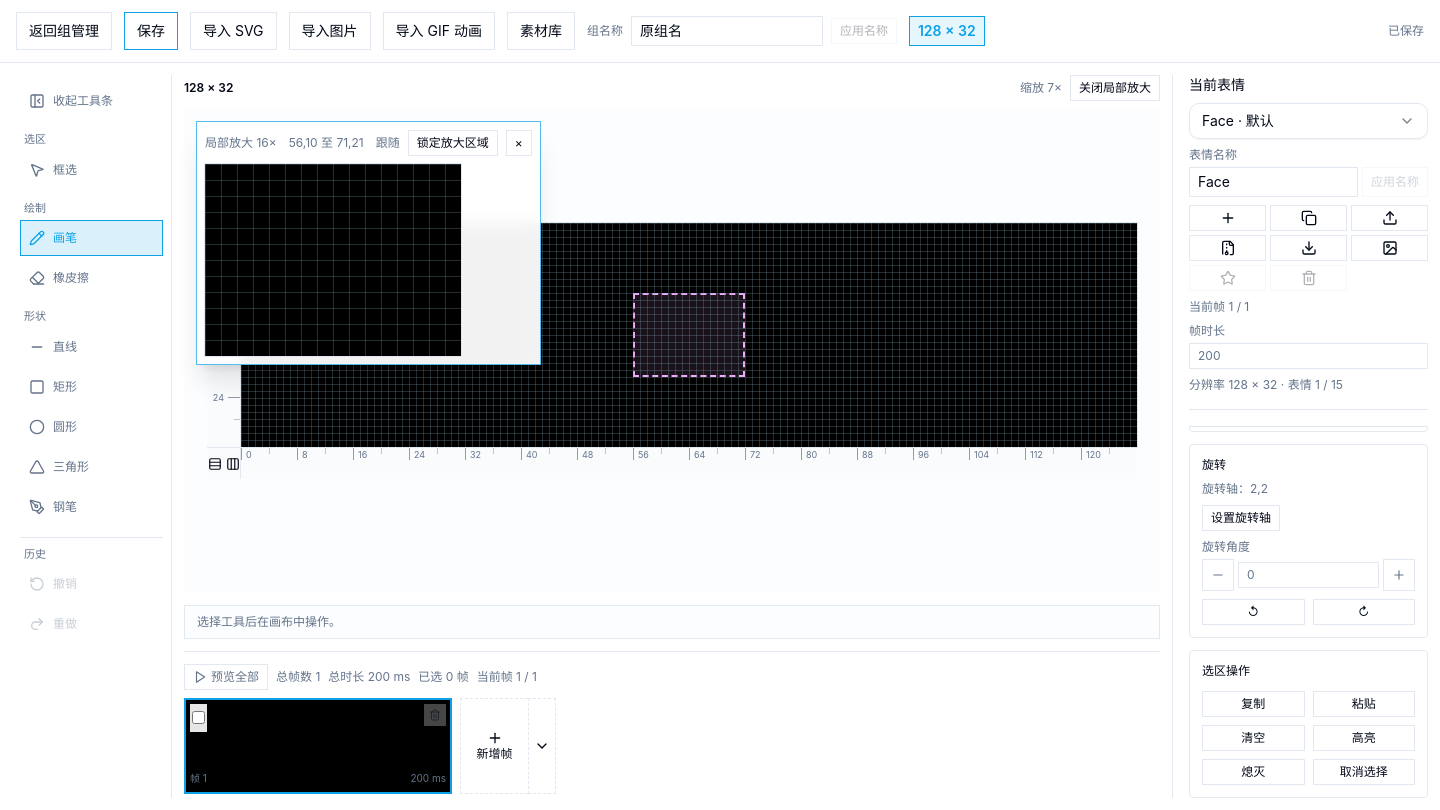
rotates a selected region from the workbench controls
(page scrolled)
Expected: the button "设置旋转轴" is shown, 1202,505 -> 1280,531
Click the button named "顺时针旋转 90°" at [1364, 612], box 1312,599 -> 1415,625
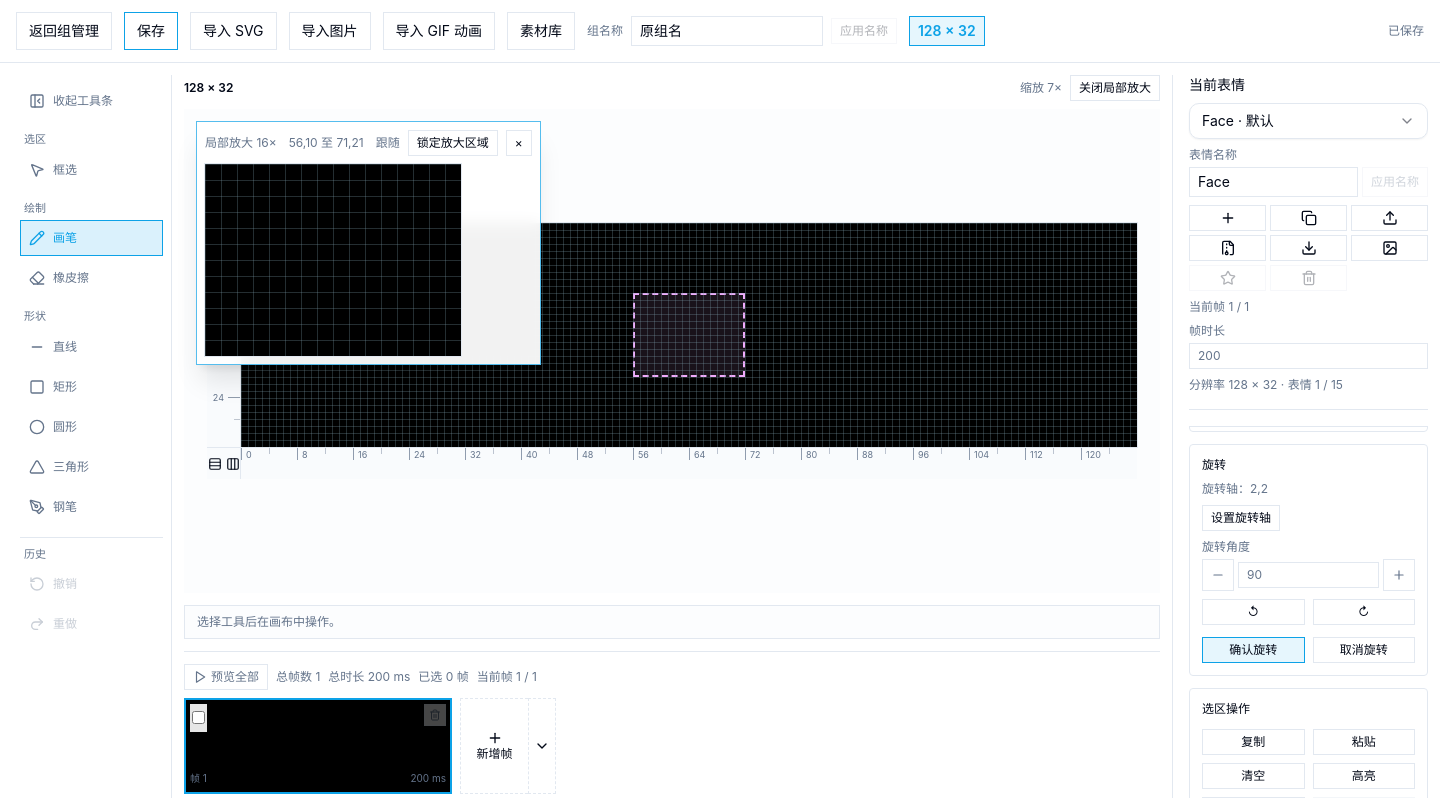
Result: the button "确认旋转" is shown
Click the button "确认旋转" at [1253, 650], box 1202,637 -> 1304,663
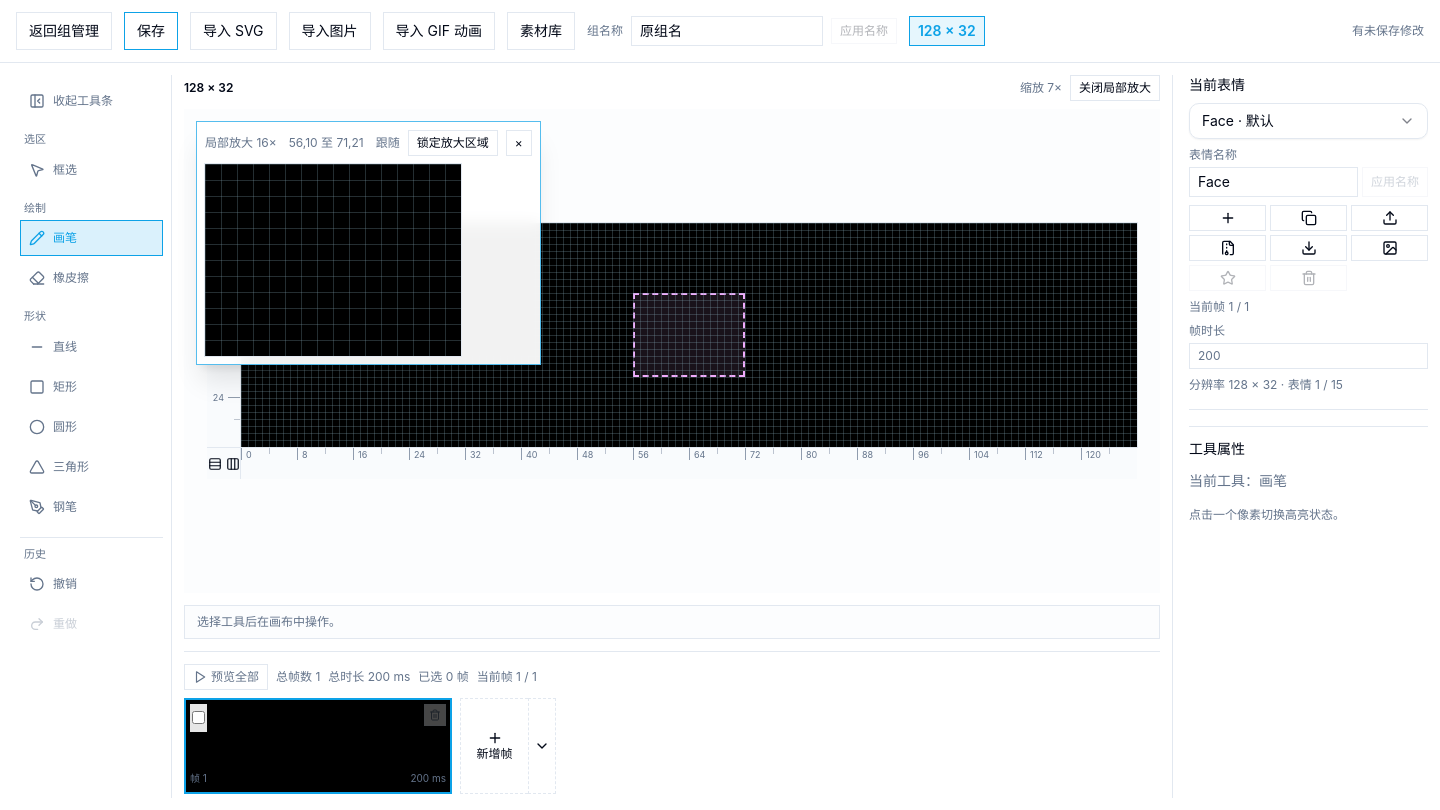
Result: the button "确认旋转" is gone
